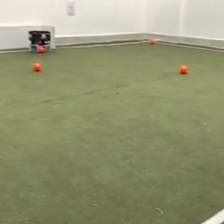ball: (32, 61, 41, 71), (179, 63, 187, 73), (149, 36, 156, 45), (38, 45, 44, 52)
goal: (1, 23, 57, 50)
robot: (27, 28, 52, 54)
